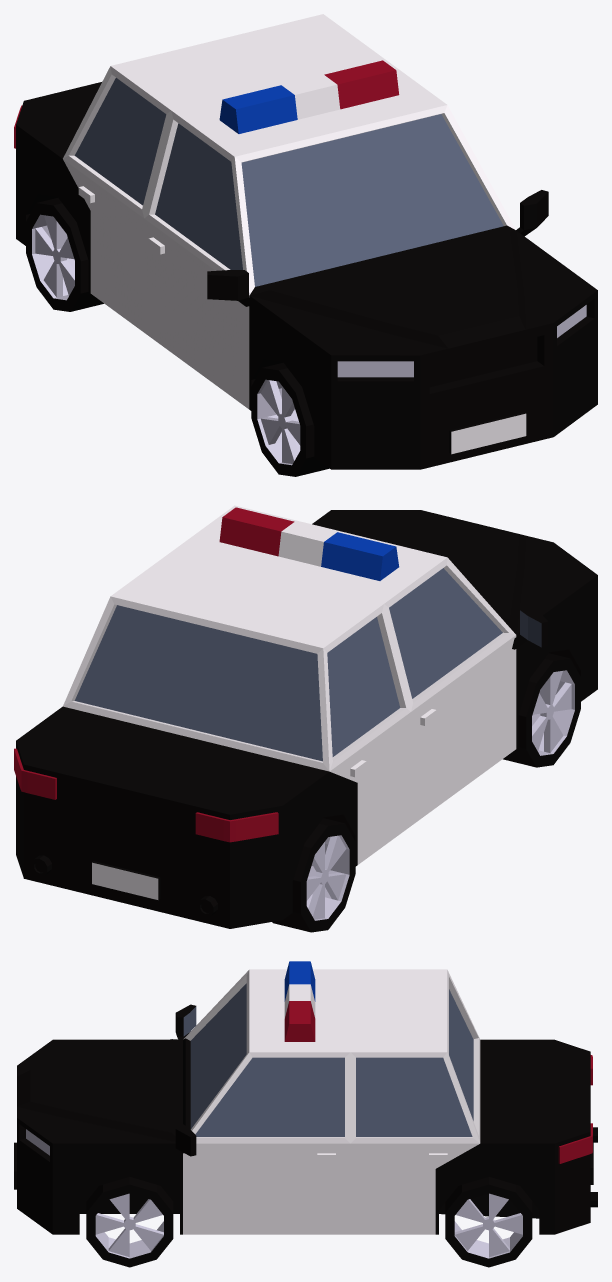
Rendered from police-sedan2.glb.
3 views of the same model, one above another, from view 1: azimuth 30°, elevation 25°; view 2: azimuth 150°, elevation 25°; view 3: azimuth 270°, elevation 25° (orthographic). The views are drawn at different scales.
Parts seen in each view (by area): view 1: Police Sedan, Police Sedan wheel front right, Police Sedan wheel rear right; view 2: Police Sedan, Police Sedan wheel rear right, Police Sedan wheel front right; view 3: Police Sedan, Police Sedan wheel front left, Police Sedan wheel rear left.
Part boxes in pixels (x1,y1,x2,y2): Police Sedan: (14,14,597,469); Police Sedan wheel front right: (251,362,329,476); Police Sedan wheel rear right: (26,198,103,311); Police Sedan: (14,505,597,928); Police Sedan wheel rear right: (272,818,355,932); Police Sedan wheel front right: (503,653,580,767); Police Sedan: (14,961,597,1234); Police Sedan wheel front left: (86,1177,173,1267); Police Sedan wheel rear left: (445,1177,532,1267).
Size of the model in its own units: 2.81 by 2.19 by 5.23.
